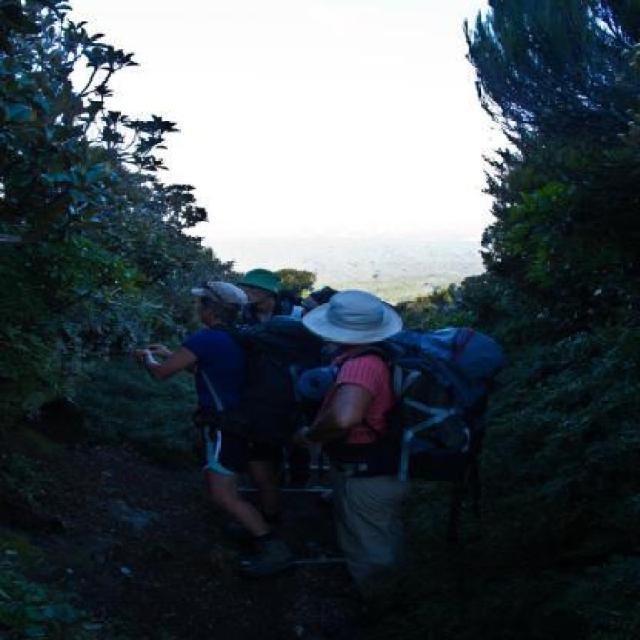backpack: (389, 325, 511, 486), (241, 312, 317, 443)
